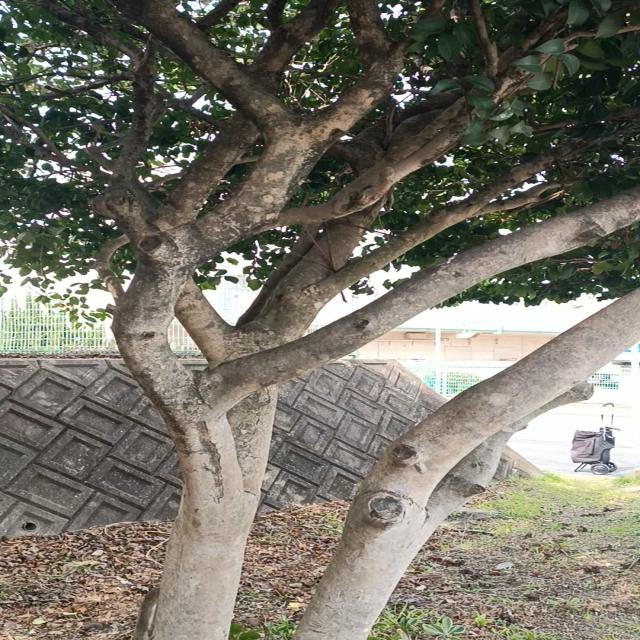Branch: (108, 0, 408, 407), (199, 189, 640, 419), (92, 33, 236, 367), (311, 136, 589, 309), (147, 0, 344, 235), (111, 0, 300, 131), (283, 163, 398, 225)
Twig: (400, 41, 559, 180), (378, 0, 498, 163), (472, 179, 580, 216), (93, 236, 131, 305)
